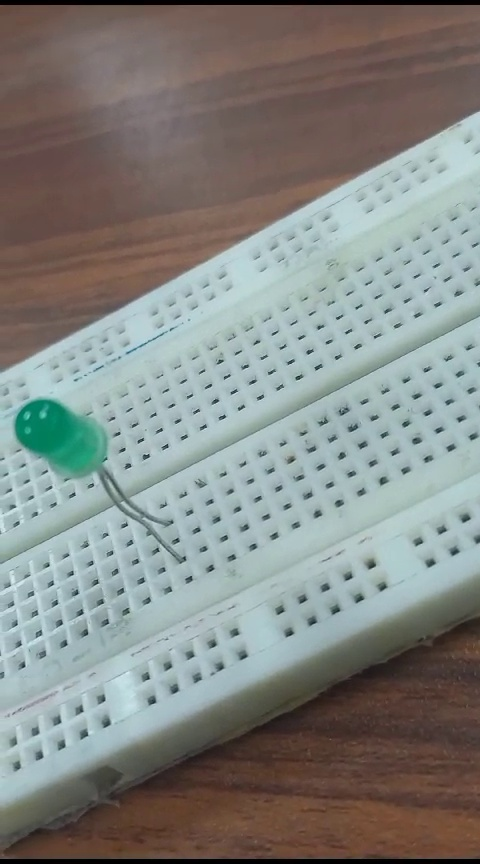LED: (20, 391, 183, 559)
